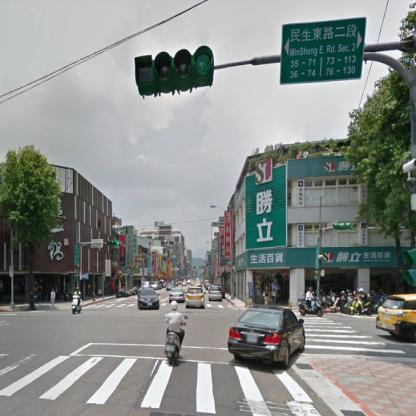Green Light: (138, 53, 218, 80), (104, 237, 120, 247)
